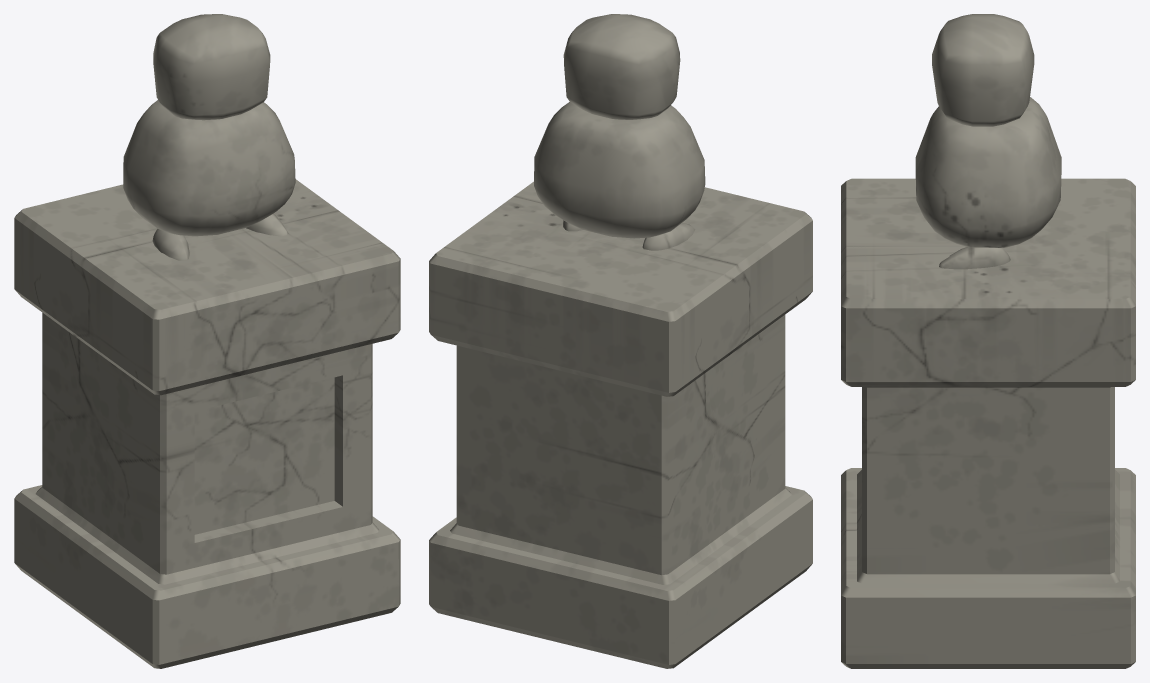
The model's file is jeff statue.fbx.
3 views of the same model, side by side, from view 1: azimuth 30°, elevation 25°; view 2: azimuth 150°, elevation 25°; view 3: azimuth 270°, elevation 25° (orthographic). The views are drawn at different scales.
Parts seen in each view (by area): view 1: polySurface304; view 2: polySurface304; view 3: polySurface304.
Boxes of the visible parts, x1=… form: polySurface304: x1=14, y1=14, x2=400, y2=668; polySurface304: x1=429, y1=14, x2=812, y2=668; polySurface304: x1=841, y1=14, x2=1135, y2=668.
Bounding box in the file's own units: 0.6843 × 1.5 × 0.6843.
Materials: 1 (1 with a texture image).
